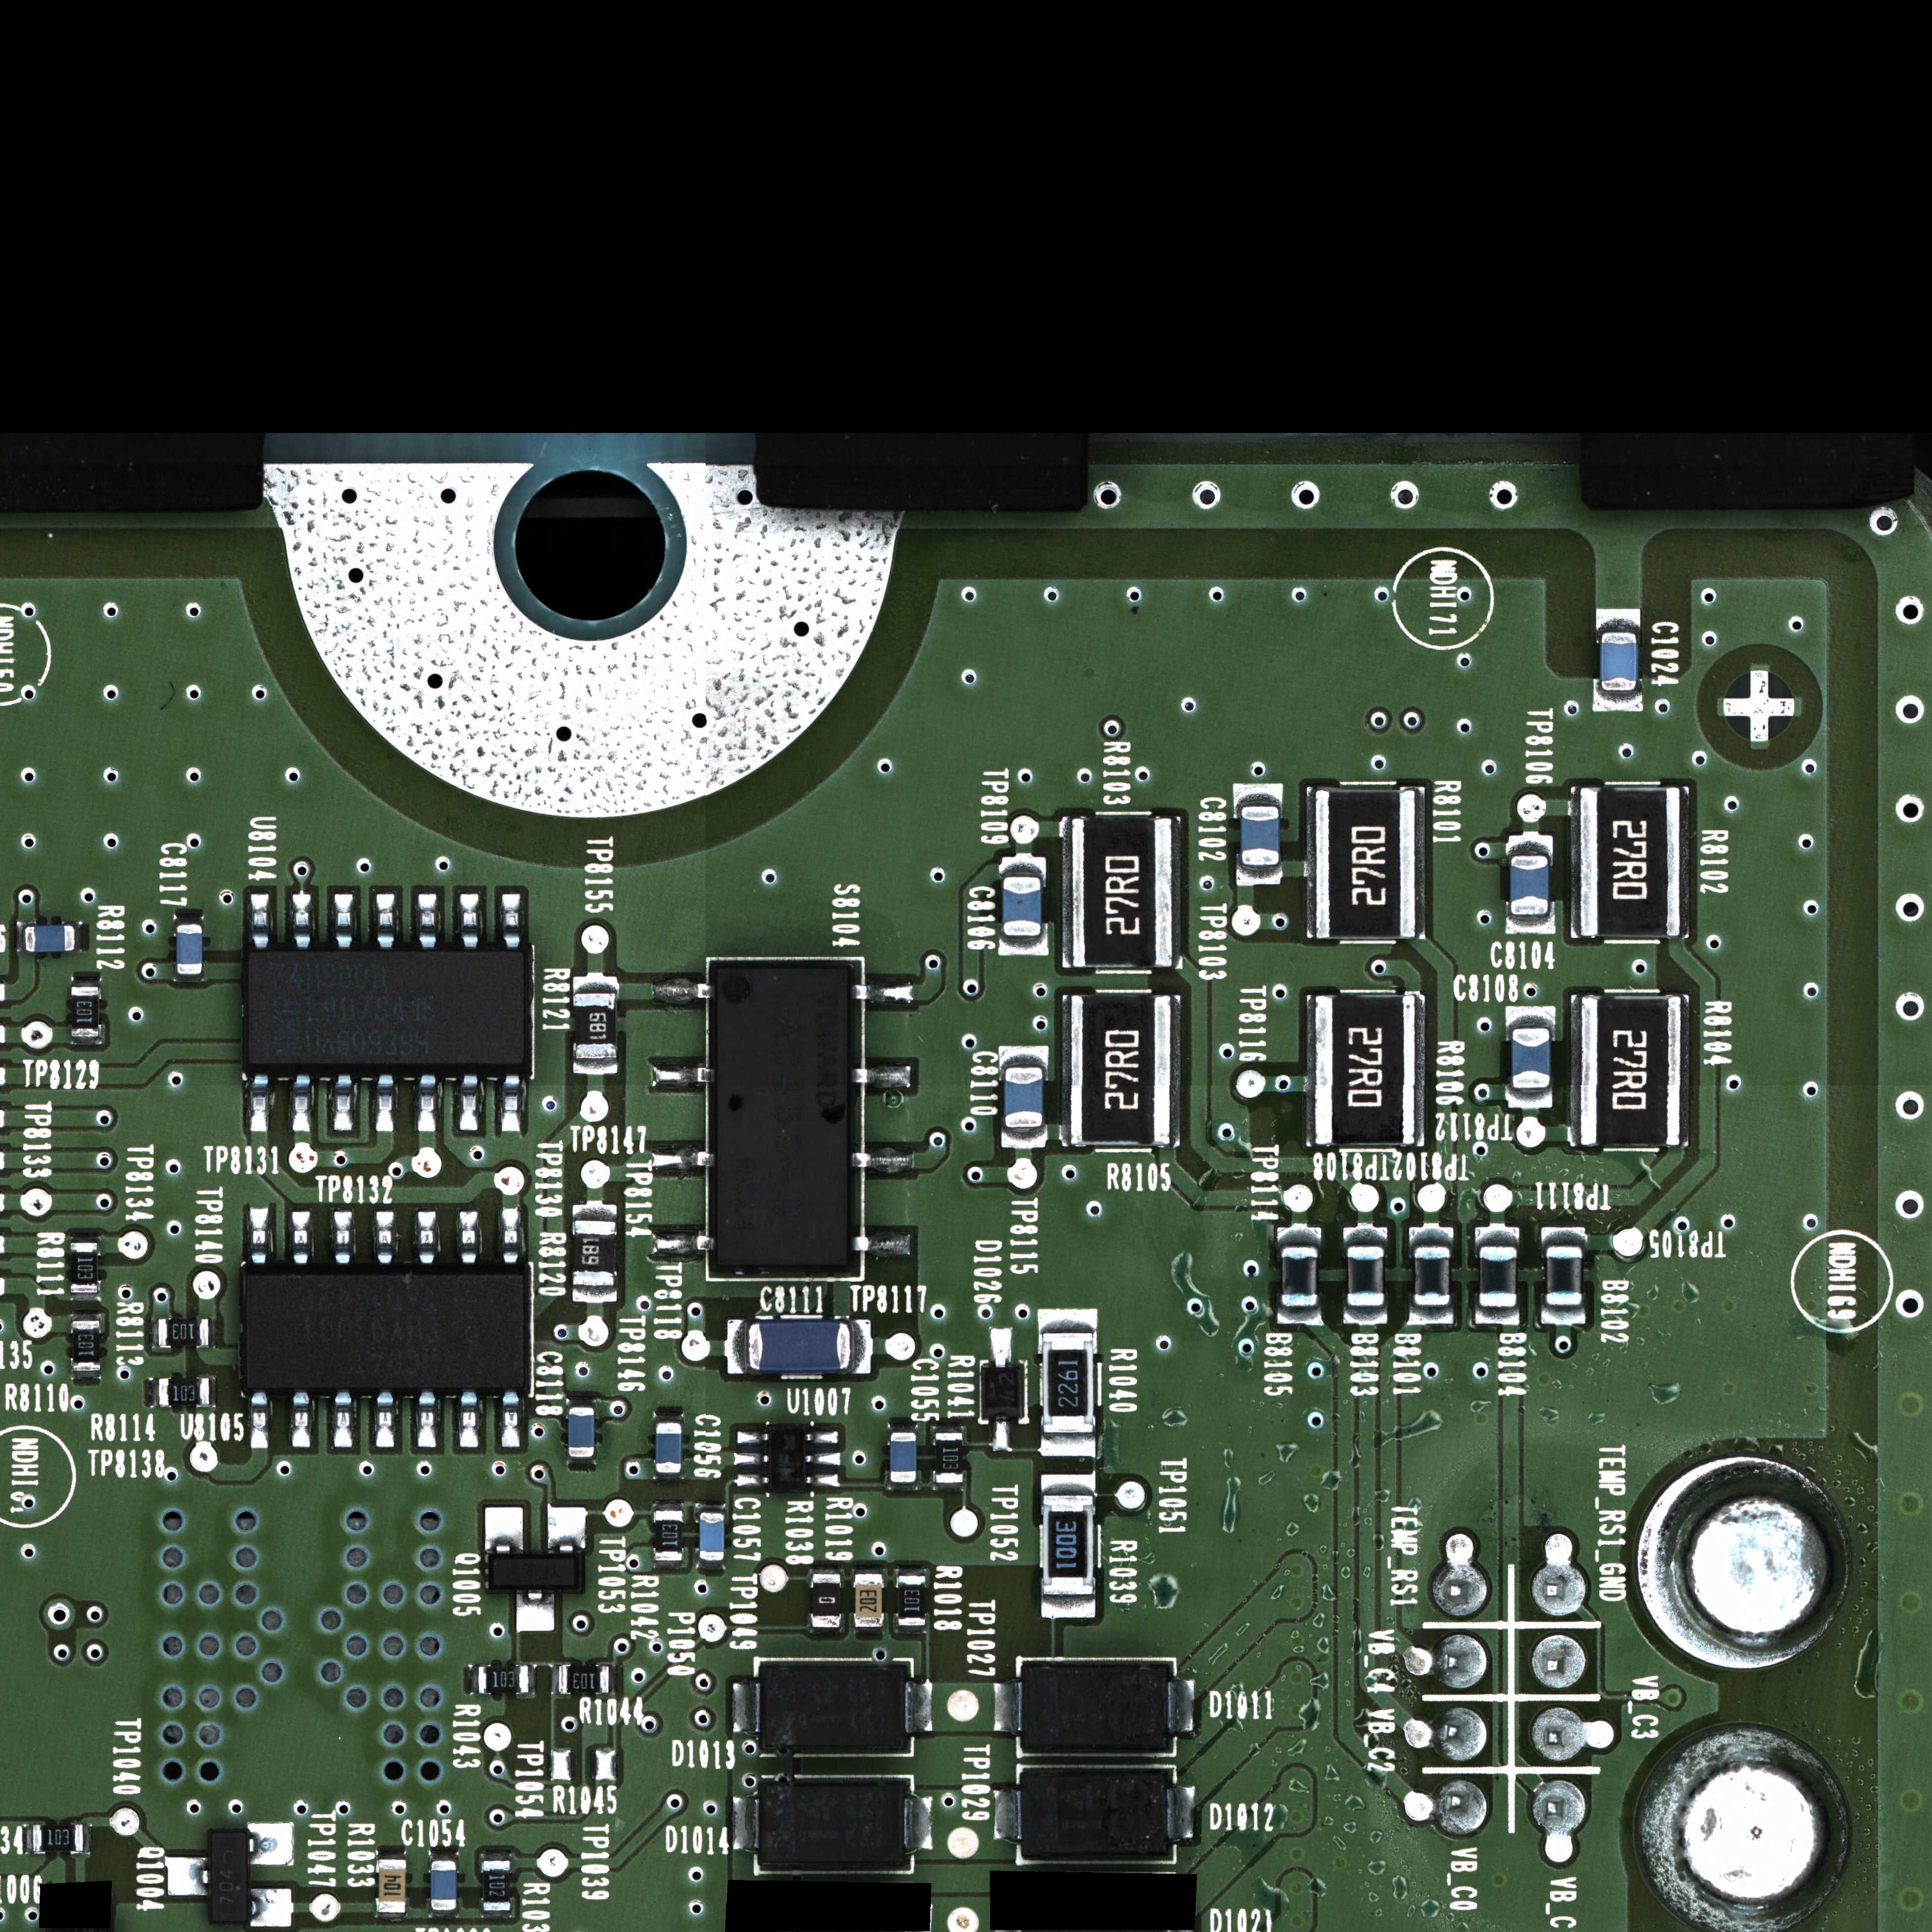Package: (716, 967, 848, 1267), (244, 1274, 527, 1389), (247, 952, 527, 1064), (1072, 818, 1173, 968), (1071, 996, 1173, 1145), (1314, 996, 1415, 1144), (1315, 790, 1415, 938), (1581, 789, 1680, 938), (1582, 997, 1681, 1145), (1021, 1666, 1167, 1748), (1020, 1775, 1167, 1855), (760, 1667, 906, 1748), (759, 1785, 904, 1865), (747, 1321, 852, 1370), (1044, 1332, 1093, 1432), (1044, 1495, 1092, 1594), (211, 1831, 248, 1924), (573, 1221, 615, 1286), (575, 994, 616, 1059), (492, 1558, 577, 1587), (1510, 856, 1549, 915), (1003, 877, 1042, 936), (1005, 1066, 1043, 1126), (1512, 1029, 1550, 1088), (1479, 1247, 1517, 1307), (981, 1366, 1023, 1419), (1241, 807, 1279, 865), (770, 1427, 805, 1489), (1546, 1247, 1583, 1305), (1601, 633, 1638, 692), (1414, 1247, 1450, 1305), (1282, 1247, 1317, 1306), (1348, 1247, 1384, 1305), (854, 1574, 883, 1627), (812, 1574, 840, 1627), (378, 1859, 405, 1912), (158, 1319, 209, 1347), (72, 1319, 100, 1370), (33, 1825, 84, 1852), (655, 1510, 683, 1560), (559, 1666, 609, 1693), (158, 1379, 209, 1405), (478, 1666, 529, 1693), (72, 986, 99, 1036), (935, 1433, 963, 1483), (25, 925, 75, 952), (71, 1243, 98, 1292), (483, 1861, 510, 1910), (656, 1423, 682, 1473), (899, 1576, 925, 1626), (891, 1433, 917, 1482), (569, 1406, 594, 1456), (432, 1861, 456, 1910), (177, 925, 202, 974), (700, 1512, 724, 1561)
Solder: (248, 1824, 293, 1865), (548, 1506, 587, 1554), (485, 1507, 523, 1553), (166, 1856, 209, 1895), (1571, 995, 1582, 1147), (250, 1887, 292, 1926), (516, 1589, 554, 1631), (1680, 786, 1690, 939), (1570, 786, 1580, 938), (905, 1796, 933, 1849), (1038, 1308, 1097, 1333), (1416, 787, 1425, 940), (1174, 817, 1183, 969), (1063, 817, 1072, 968), (1415, 995, 1424, 1147), (994, 1682, 1021, 1732), (1168, 1787, 1195, 1838), (994, 1788, 1020, 1840), (1062, 995, 1071, 1146), (906, 1682, 932, 1732), (733, 1682, 759, 1733), (651, 1147, 711, 1169), (853, 1065, 911, 1088), (733, 1797, 758, 1849), (651, 980, 710, 1002), (653, 1231, 710, 1254), (1040, 1433, 1096, 1456), (853, 1234, 911, 1256), (1681, 994, 1689, 1147), (1169, 1680, 1194, 1732), (853, 1152, 915, 1172), (1041, 1595, 1095, 1618), (1041, 1473, 1096, 1495), (725, 1320, 747, 1374), (652, 1065, 710, 1085), (501, 1075, 522, 1132), (1307, 995, 1314, 1147), (1307, 786, 1315, 938), (334, 1391, 353, 1449), (460, 894, 480, 951), (376, 1392, 395, 1449), (418, 1391, 437, 1448), (854, 984, 914, 1003), (852, 1320, 872, 1374), (1234, 784, 1283, 806), (292, 894, 312, 951), (334, 1074, 352, 1132), (459, 1392, 479, 1448), (502, 1208, 521, 1265), (250, 1075, 269, 1132), (292, 1075, 311, 1132), (335, 894, 353, 951), (291, 1392, 310, 1449), (501, 1392, 520, 1449), (1596, 608, 1640, 632), (1506, 1007, 1556, 1028), (377, 894, 395, 950), (418, 894, 437, 950), (502, 894, 521, 950), (460, 1075, 479, 1131), (250, 1391, 268, 1449), (1276, 1223, 1322, 1246), (1173, 995, 1180, 1147), (999, 854, 1046, 876), (251, 894, 269, 951), (418, 1075, 436, 1132), (998, 1046, 1048, 1067), (418, 1211, 436, 1266), (460, 1210, 478, 1265), (1001, 1127, 1047, 1149), (1593, 692, 1643, 712), (376, 1075, 393, 1132), (250, 1208, 268, 1266), (1409, 1224, 1453, 1246), (1506, 834, 1552, 856), (334, 1211, 352, 1266), (998, 936, 1049, 955), (292, 1211, 310, 1266), (1236, 865, 1282, 886), (1506, 915, 1555, 934), (1475, 1224, 1520, 1246), (573, 973, 619, 993), (377, 1211, 393, 1265), (1506, 1089, 1552, 1109), (1343, 1226, 1388, 1246), (1408, 1306, 1454, 1325), (1541, 1305, 1586, 1325), (572, 1202, 617, 1220), (1276, 1306, 1322, 1325), (990, 1328, 1012, 1367), (1542, 1227, 1587, 1246), (1343, 1306, 1388, 1325), (1475, 1307, 1519, 1325), (572, 1286, 617, 1303), (573, 1059, 618, 1075), (51, 1883, 66, 1916), (72, 1883, 88, 1916), (94, 1884, 109, 1917), (993, 1421, 1010, 1451), (806, 1474, 841, 1487), (734, 1452, 769, 1465), (805, 1452, 840, 1465), (734, 1473, 769, 1486), (806, 1431, 839, 1444), (736, 1431, 769, 1444), (148, 1377, 158, 1408), (468, 1665, 478, 1694), (696, 1560, 725, 1570), (174, 915, 204, 924), (481, 1851, 512, 1861), (75, 921, 84, 952), (429, 1851, 459, 1860), (71, 1037, 102, 1046), (71, 1371, 101, 1380), (566, 1398, 596, 1407), (654, 1413, 684, 1422), (71, 977, 101, 986), (933, 1483, 965, 1492), (69, 1293, 101, 1302), (887, 1483, 919, 1491), (808, 1567, 843, 1574), (429, 1910, 460, 1919), (896, 1626, 927, 1635), (888, 1423, 918, 1432), (70, 1312, 101, 1320), (16, 921, 25, 952), (149, 1318, 158, 1349), (933, 1424, 963, 1432), (70, 1234, 100, 1243), (696, 1503, 725, 1512), (653, 1502, 684, 1510), (377, 1850, 406, 1859), (529, 1665, 537, 1694), (551, 1665, 559, 1694), (566, 1458, 597, 1466), (174, 975, 204, 983), (84, 1824, 92, 1854), (376, 1912, 408, 1920), (852, 1567, 886, 1574), (609, 1665, 617, 1694), (653, 1473, 684, 1481), (482, 1911, 513, 1919), (209, 1317, 217, 1349), (811, 1628, 842, 1635), (24, 1825, 32, 1854), (854, 1627, 884, 1634), (653, 1561, 684, 1568), (210, 1377, 217, 1407), (896, 1568, 925, 1575)
